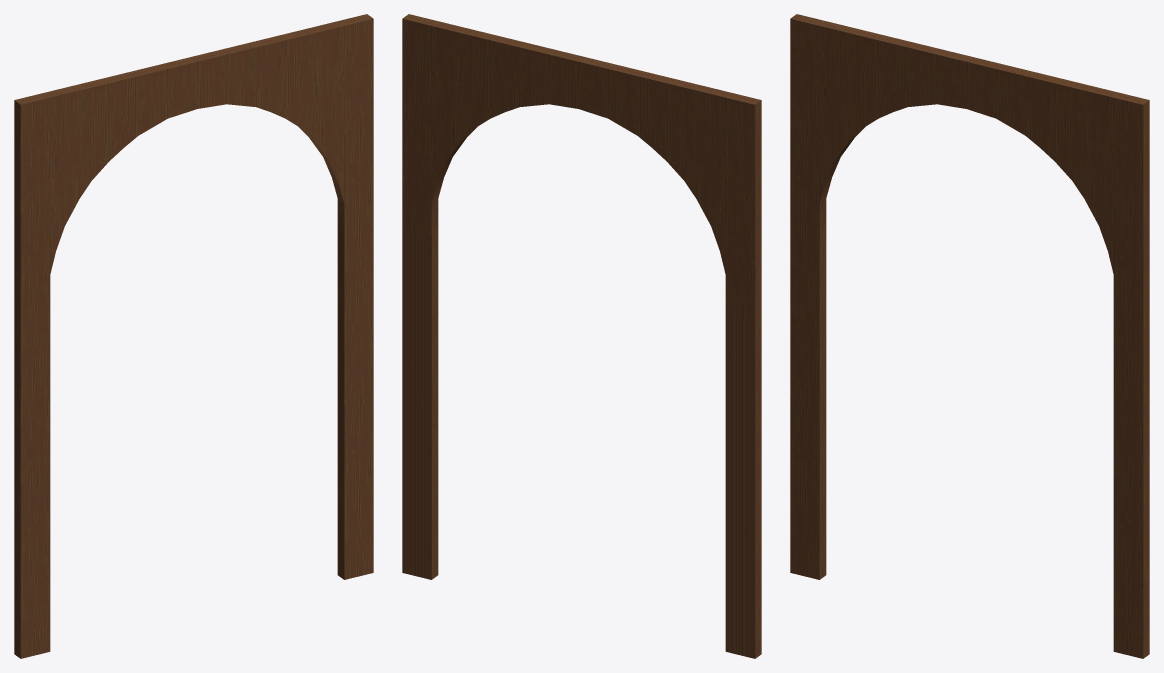
File: Wall_Arch.glb
3 renders of one model, left to right at view 1: azimuth 30°, elevation 25°; view 2: azimuth 150°, elevation 25°; view 3: azimuth 330°, elevation 25°, orthographic.
Visible parts, largest first — view 1: Wall_Arch; view 2: Wall_Arch; view 3: Wall_Arch.
Part boxes in pixels (left/top/right/bottom): Wall_Arch: left=14, top=14, right=373, bottom=658; Wall_Arch: left=402, top=14, right=761, bottom=658; Wall_Arch: left=790, top=14, right=1149, bottom=658.
Size of the model in its own units: 2 by 3 by 0.064.
1 material, 1 textured.
